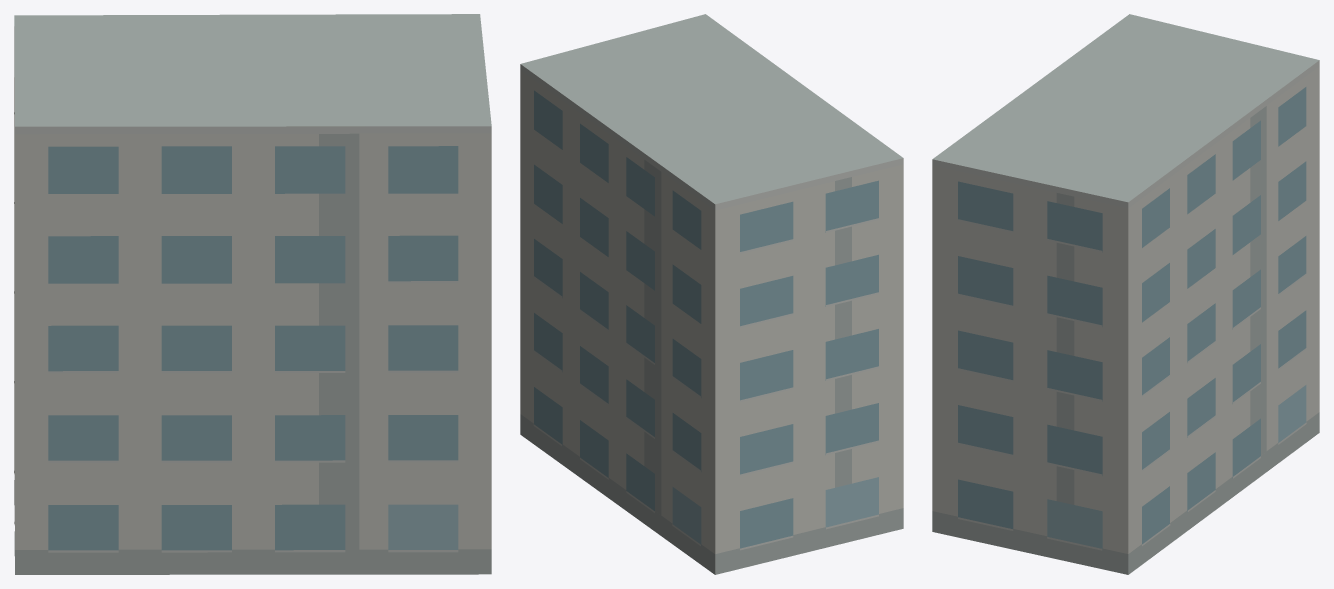
The model's file is survey-upis-33014565.glb.
The picture shows the model from 3 angles, left to right: view 1: azimuth 30°, elevation 25°; view 2: azimuth 150°, elevation 25°; view 3: azimuth 270°, elevation 25°; orthographic projection. The views are drawn at different scales.
Parts seen in each view (by area): view 1: survey-upis-33014565.tmp; view 2: survey-upis-33014565.tmp; view 3: survey-upis-33014565.tmp.
Part boxes in pixels (x1,y1,x2,y2): survey-upis-33014565.tmp: (14, 14, 491, 574); survey-upis-33014565.tmp: (520, 14, 903, 574); survey-upis-33014565.tmp: (932, 14, 1319, 574).
Size of the model in its own units: 15.95 by 14.7 by 13.86.
